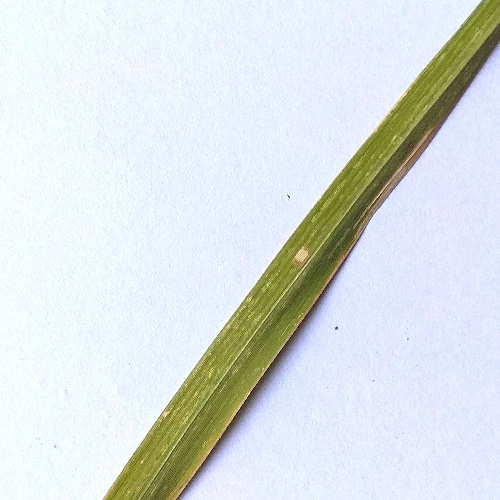Busuk Leher: (401, 121, 451, 169), (366, 169, 416, 217), (288, 237, 315, 270)
